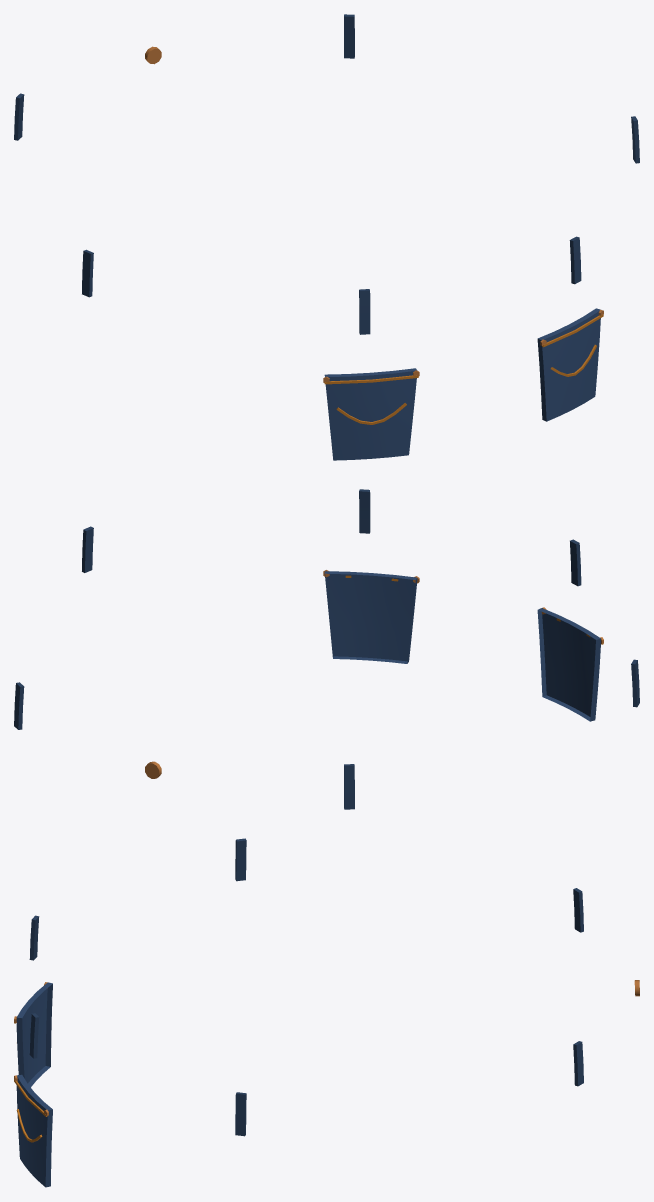
The picture shows the model from 3 angles, top to bottom: view 1: azimuth 30°, elevation 25°; view 2: azimuth 150°, elevation 25°; view 3: azimuth 270°, elevation 25°; orthographic projection. The views are drawn at different scales.
Parts seen in each view (by area): view 1: l_jeans; view 2: l_jeans; view 3: l_jeans.
Boxes of the visible parts, x1,y1,x2,y2 form: l_jeans: [14, 14, 639, 460]; l_jeans: [14, 489, 639, 809]; l_jeans: [14, 838, 583, 1187].
Size of the model in its own units: 1.03 by 0.2994 by 1.06.
